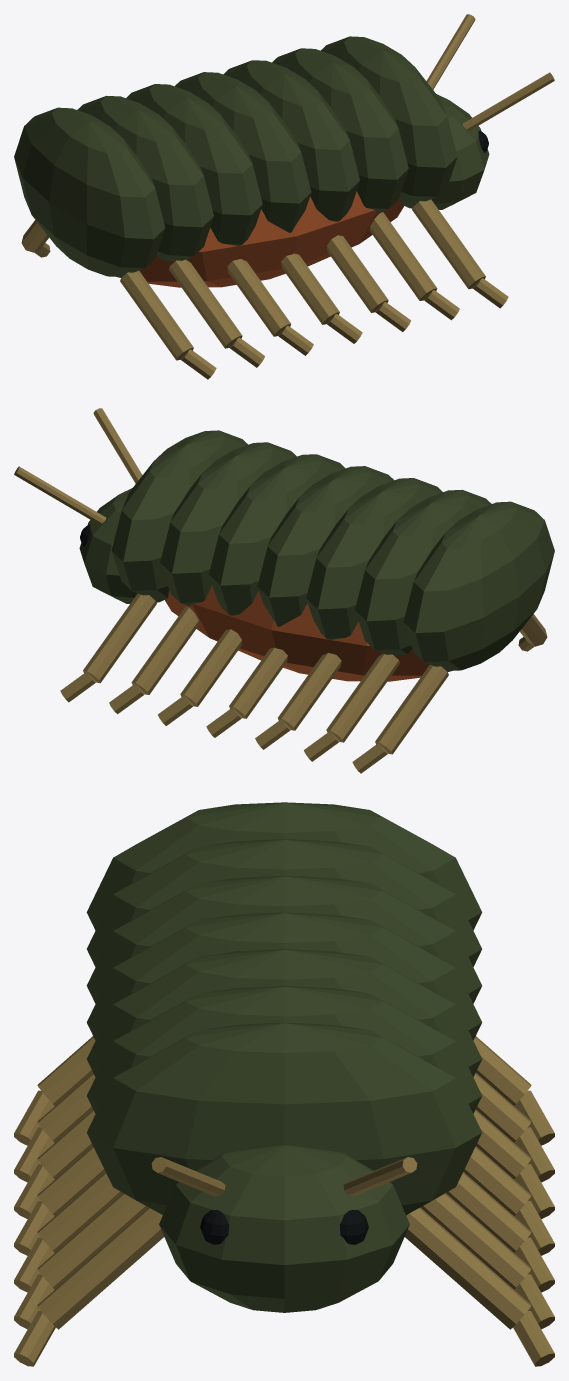
Rendered from SM_MP_Woodlouse.fbx.
3 views of the same model, one above another, from view 1: azimuth 30°, elevation 25°; view 2: azimuth 150°, elevation 25°; view 3: azimuth 270°, elevation 25° (orthographic). The views are drawn at different scales.
Visible parts, largest first — view 1: SM_MP_Woodlouse; view 2: SM_MP_Woodlouse; view 3: SM_MP_Woodlouse.
Part boxes in pixels (x1,y1,x2,y2): SM_MP_Woodlouse: (14, 14, 554, 379); SM_MP_Woodlouse: (14, 408, 554, 773); SM_MP_Woodlouse: (14, 802, 554, 1366).
Bounding box in the file's own units: 172 × 112 × 72.49.
1 material, 1 textured.
